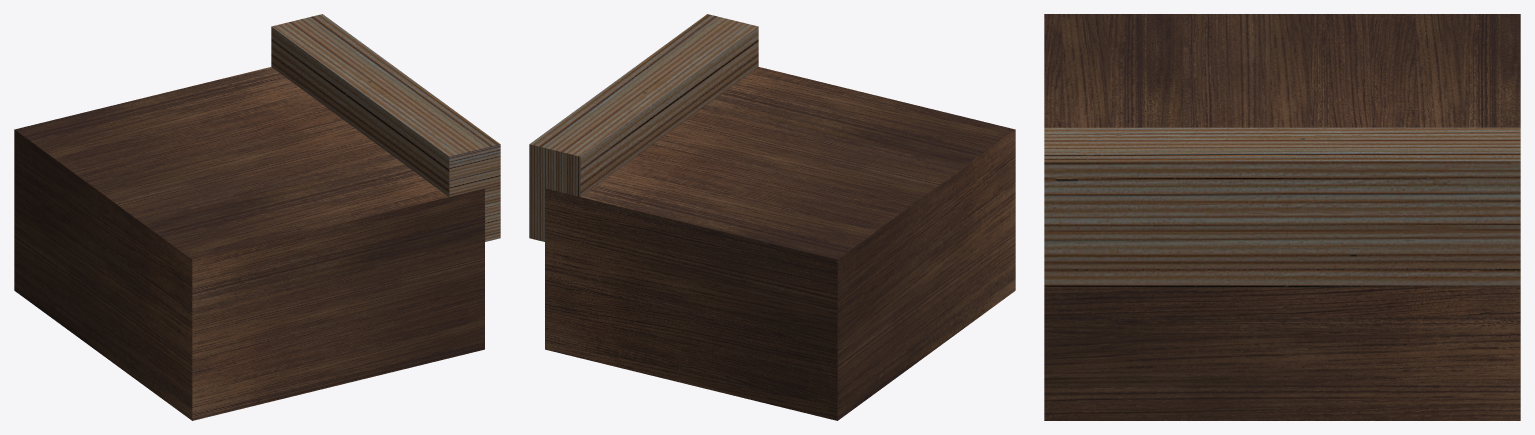
File: wall2.fbx
3 renders of one model, left to right at view 1: azimuth 30°, elevation 25°; view 2: azimuth 150°, elevation 25°; view 3: azimuth 270°, elevation 25°, orthographic. The views are drawn at different scales.
Visible parts, largest first — view 1: Cube.001; view 2: Cube.001; view 3: Cube.001.
Boxes of the visible parts, box(x1,y1,x2,y2) form: Cube.001: box(14, 14, 500, 420); Cube.001: box(529, 14, 1015, 420); Cube.001: box(1044, 14, 1520, 420).
Size of the model in its own units: 200 by 125 by 200.
